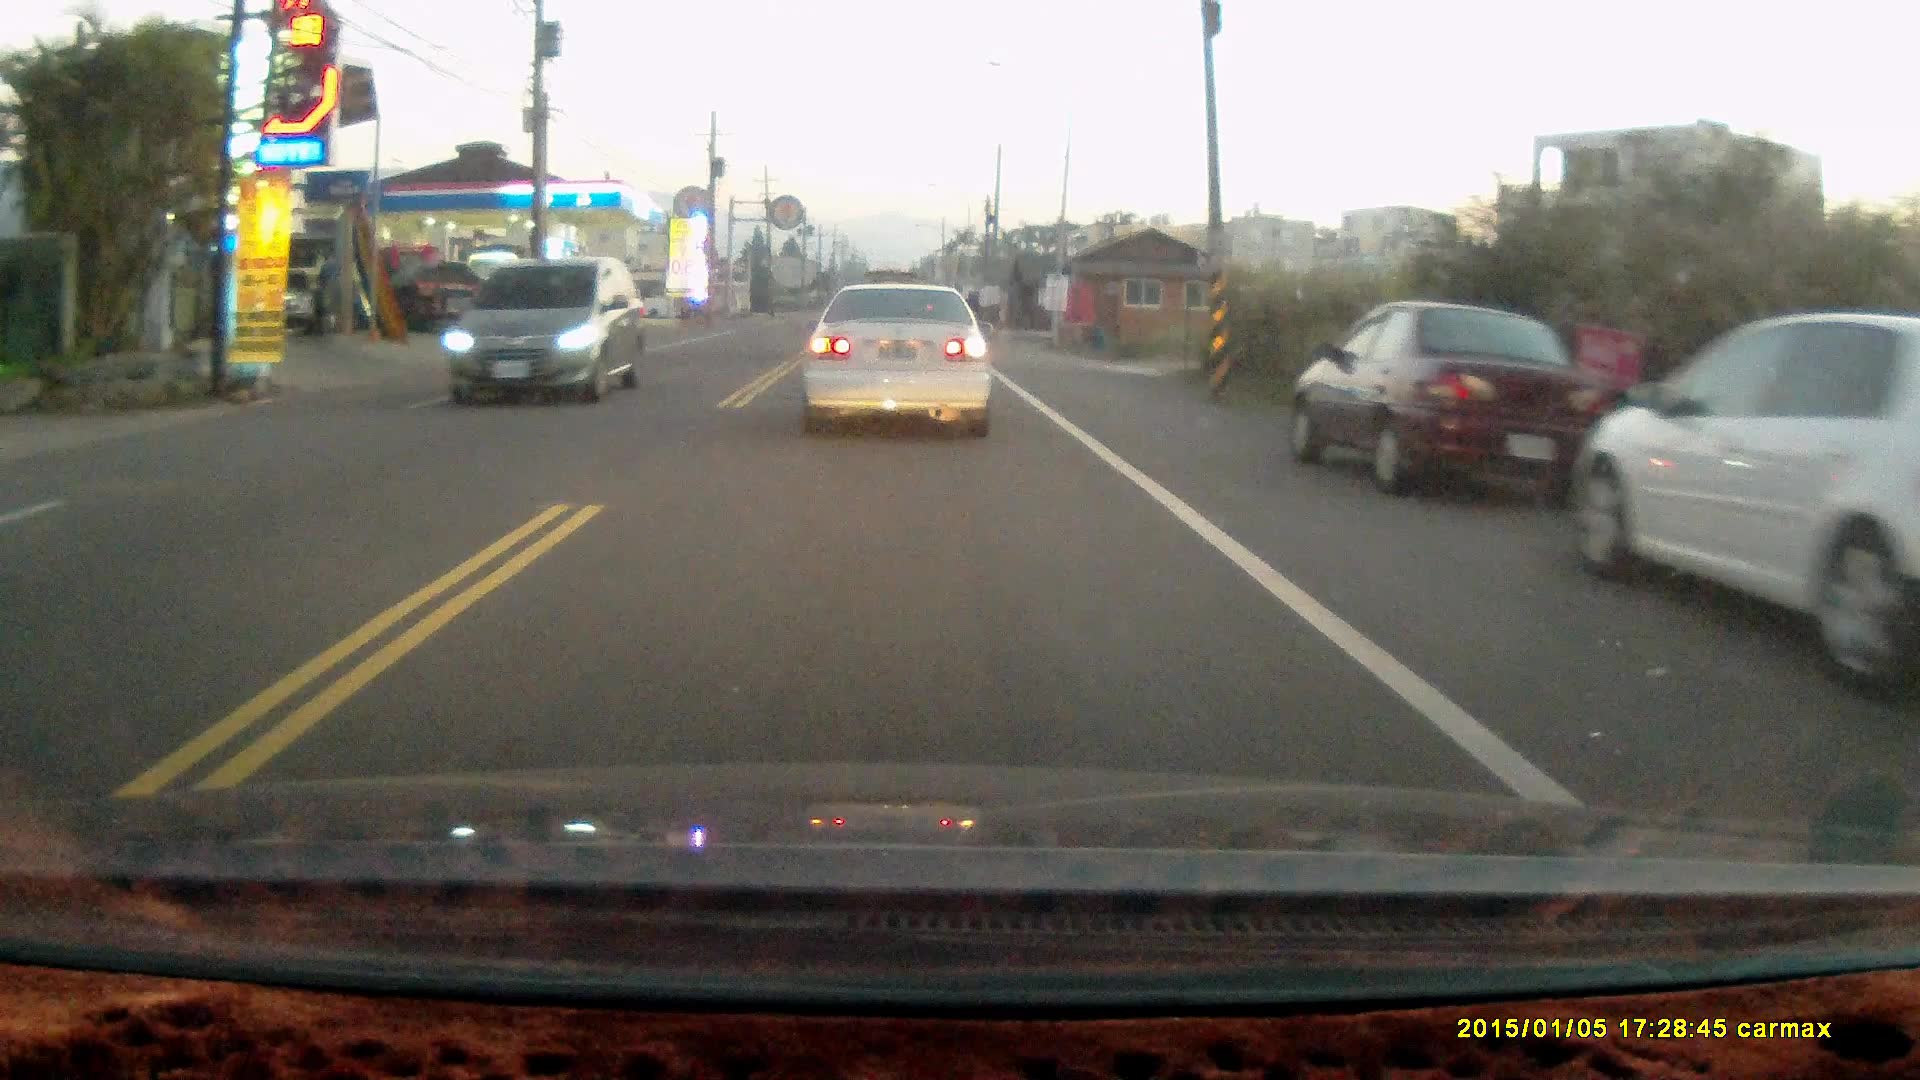vehicle: (1563, 311, 1920, 711), (1288, 301, 1617, 498), (796, 280, 996, 444), (448, 255, 647, 405)
